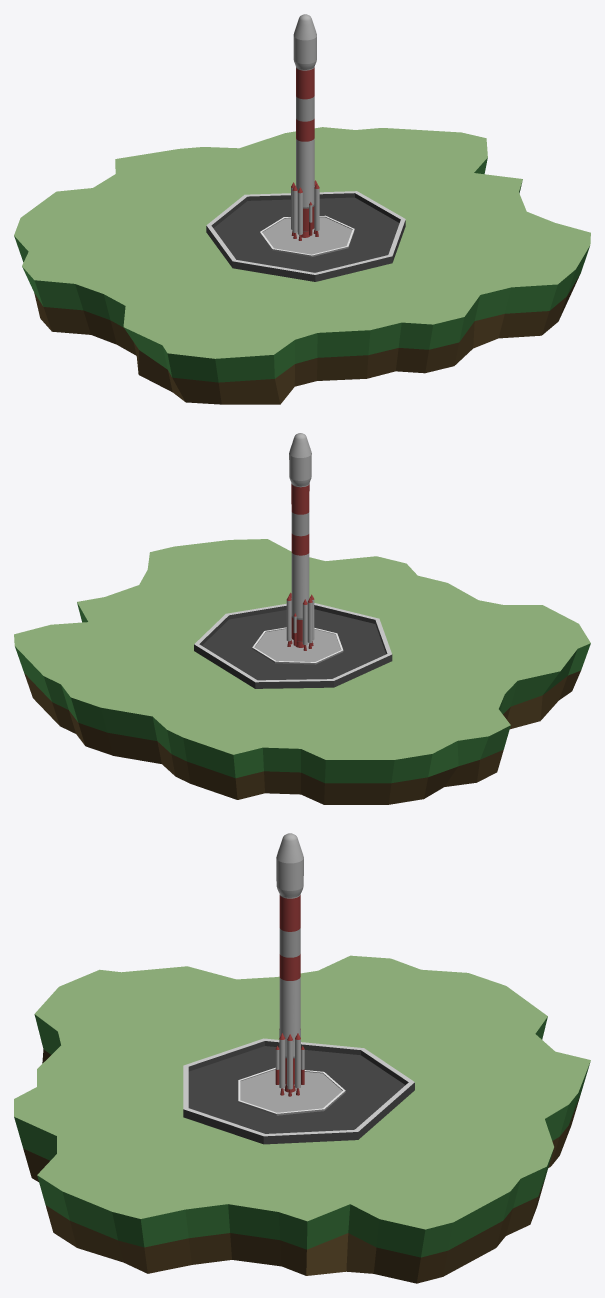
The model's file is PSLV.gltf.
The picture shows the model from 3 angles, top to bottom: view 1: azimuth 30°, elevation 25°; view 2: azimuth 150°, elevation 25°; view 3: azimuth 270°, elevation 25°; orthographic projection. The views are drawn at different scales.
Visible parts, largest first — view 1: Plane, Circle, Cylinder.003, Cylinder.001; view 2: Plane, Circle, Cylinder.003, Cylinder.001; view 3: Plane, Circle, Cylinder.003, Cylinder.001.
Part boxes in pixels (x1=…): Plane: x1=14, y1=127, x2=590, y2=404; Circle: x1=206, y1=191, x2=405, y2=281; Cylinder.003: x1=293, y1=14, x2=316, y2=237; Cylinder.001: x1=260, y1=215, x2=354, y2=256; Plane: x1=14, y1=539, x2=590, y2=804; Circle: x1=194, y1=603, x2=392, y2=688; Cylinder.003: x1=289, y1=433, x2=311, y2=647; Cylinder.001: x1=252, y1=627, x2=343, y2=664; Plane: x1=14, y1=955, x2=590, y2=1283; Circle: x1=183, y1=1038, x2=414, y2=1144; Cylinder.003: x1=276, y1=833, x2=303, y2=1092; Cylinder.001: x1=238, y1=1067, x2=345, y2=1115.
Bounding box in the file's own units: 8.06 × 4.43 × 7.18.
